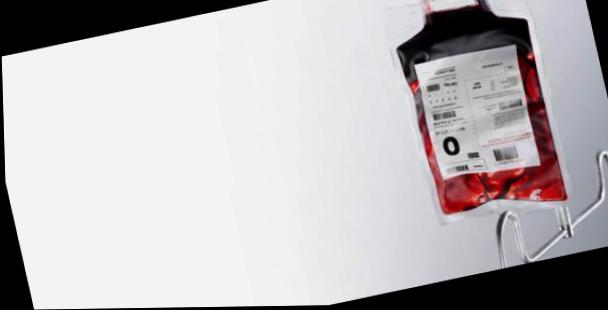Fire: (396, 0, 564, 216)
